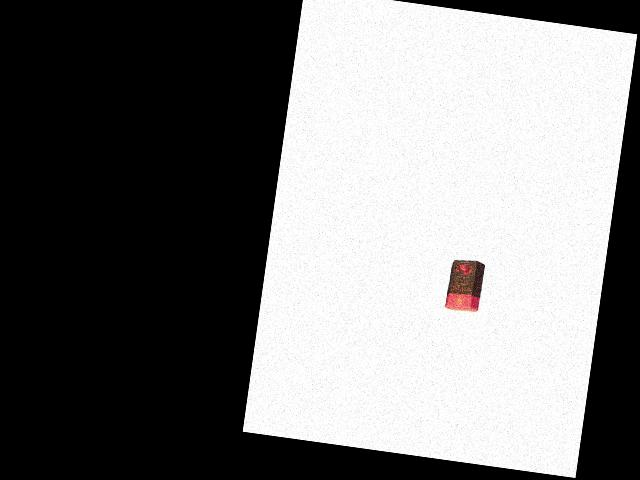chocolate: (443, 252, 487, 315)
